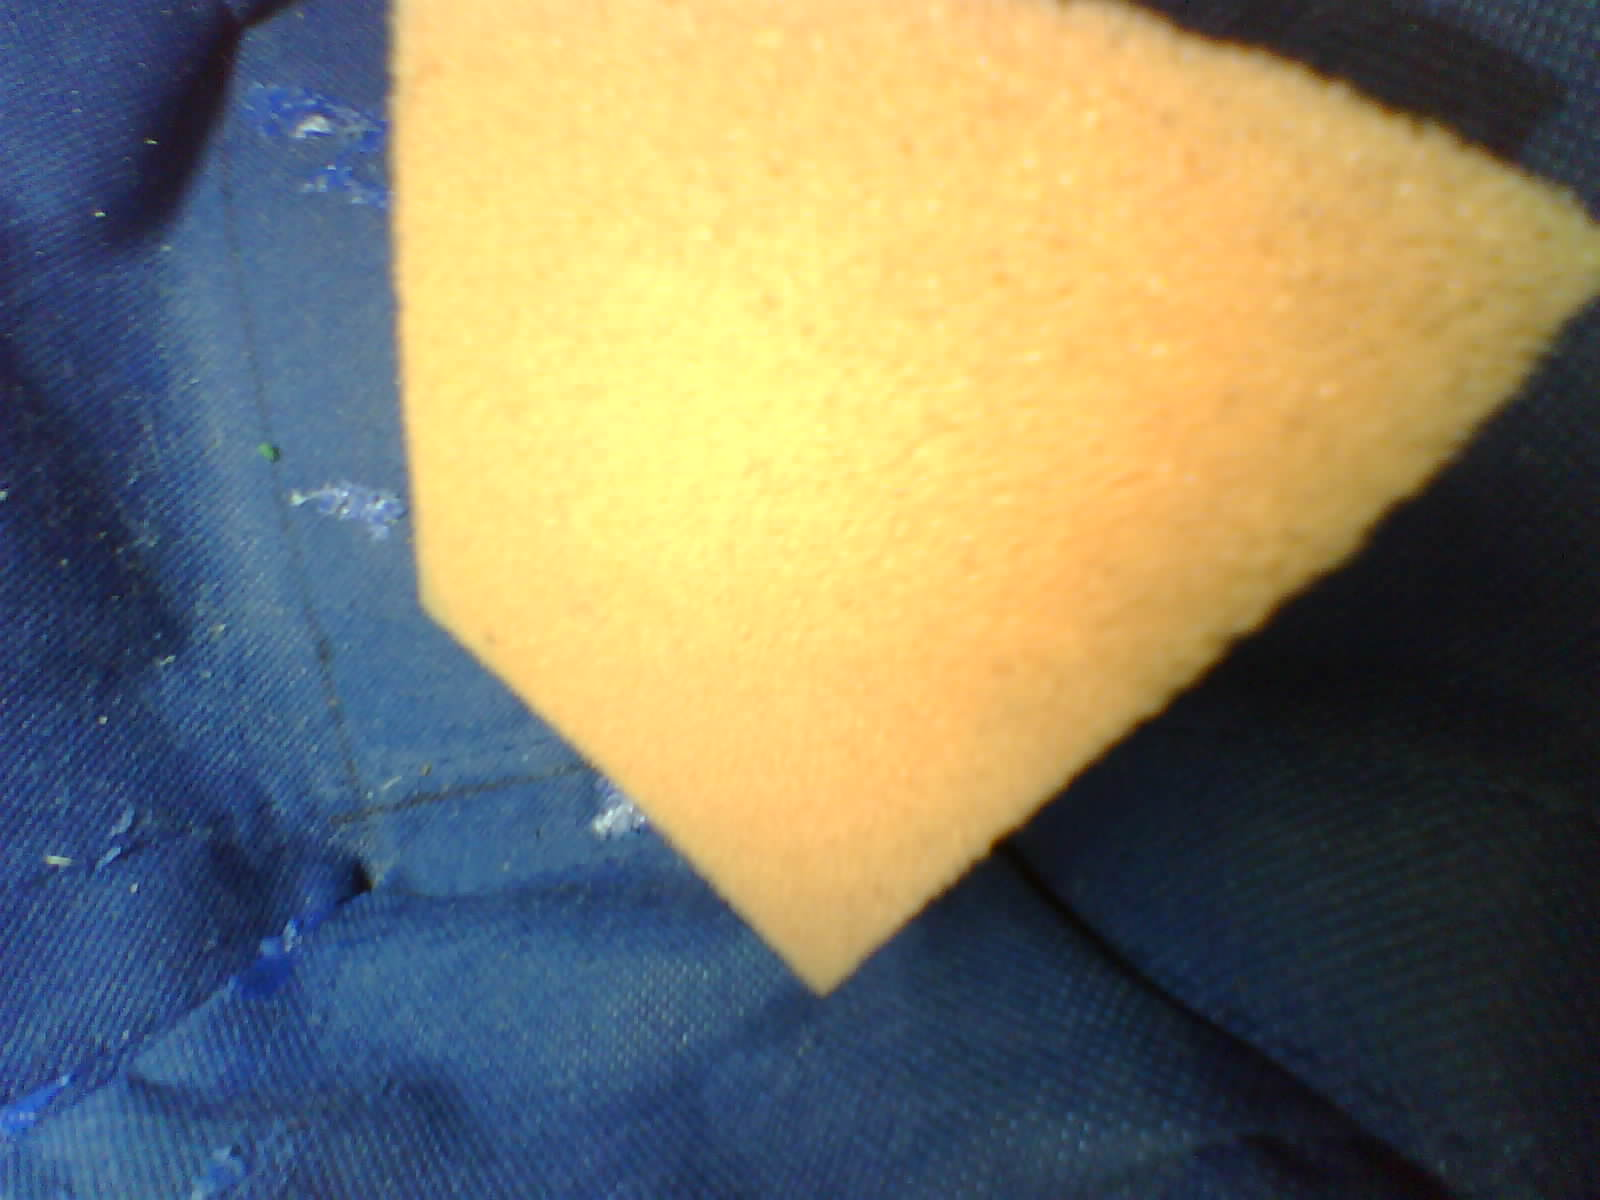cube-soft: (343, 0, 1600, 1021)
